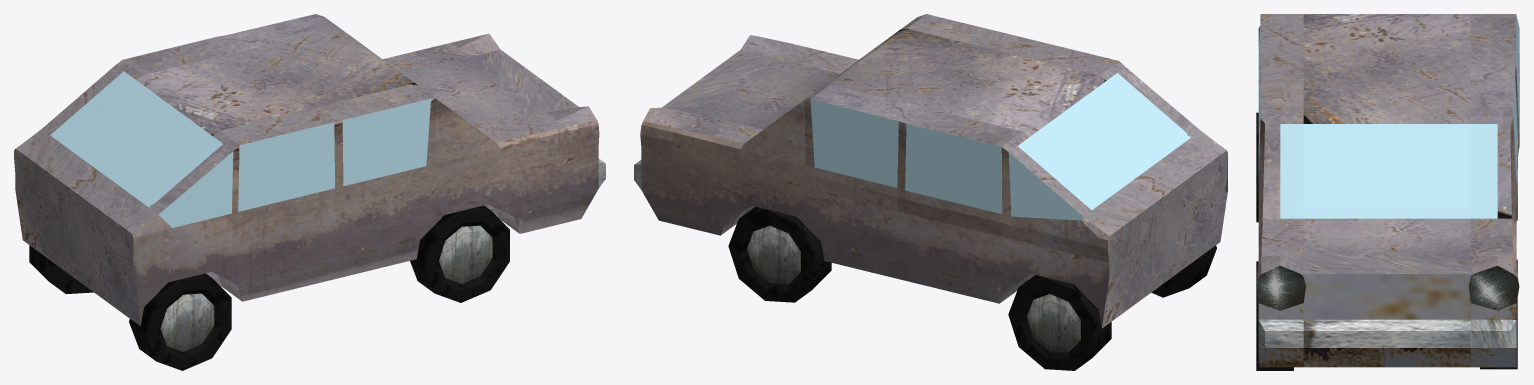
File: Carro.FBX
3 renders of one model, left to right at view 1: azimuth 30°, elevation 25°; view 2: azimuth 150°, elevation 25°; view 3: azimuth 270°, elevation 25°, orthographic. The views are drawn at different scales.
Visible parts, largest first — view 1: Box001; view 2: Box001; view 3: Box001.
Boxes of the visible parts, x1,y1,x2,y2 form: Box001: (14,14,605,370); Box001: (634,14,1227,370); Box001: (1256,14,1519,370).
Bounding box in the file's own units: 46.31 × 19.54 × 20.3.
Materials: 1 (1 with a texture image).
